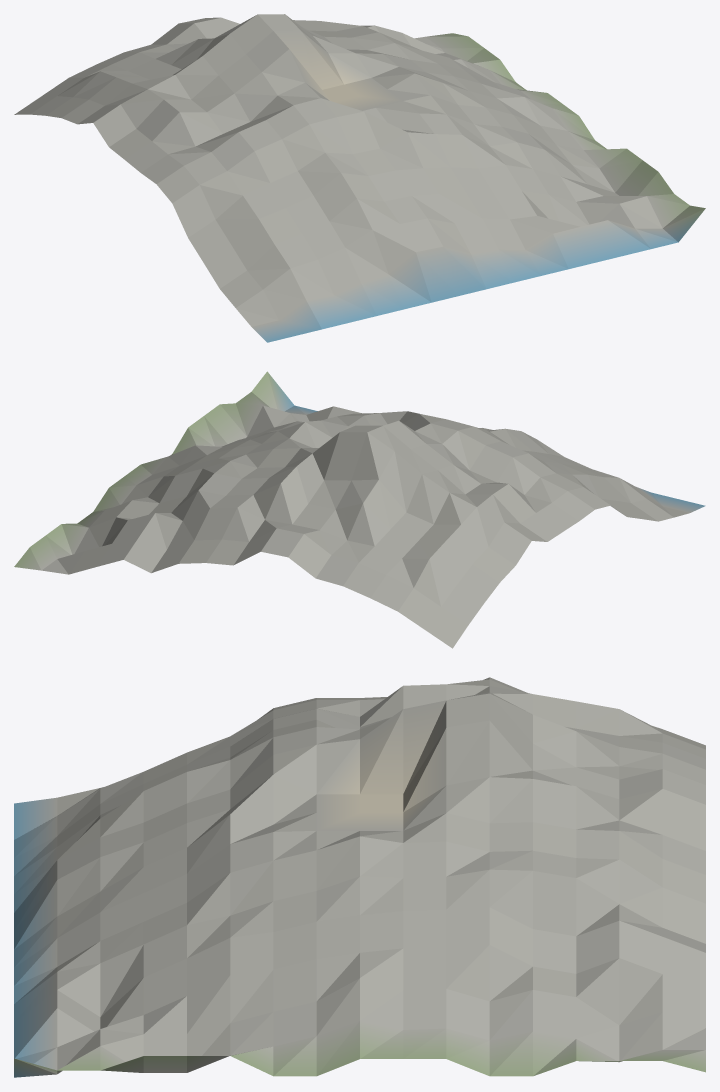
The picture shows the model from 3 angles, top to bottom: view 1: azimuth 30°, elevation 25°; view 2: azimuth 150°, elevation 25°; view 3: azimuth 270°, elevation 25°; orthographic projection. The views are drawn at different scales.
Size of the model in its own units: 32 by 11.21 by 32.
